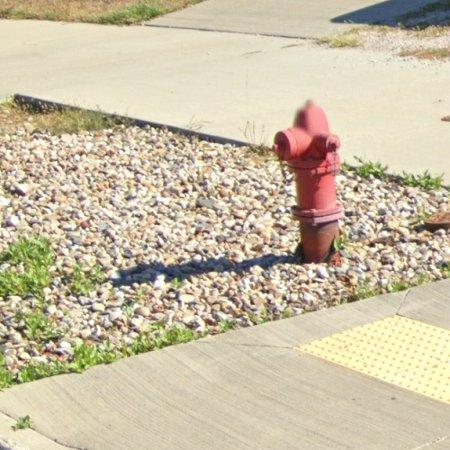a fire hydrant: (274, 101, 344, 263)
